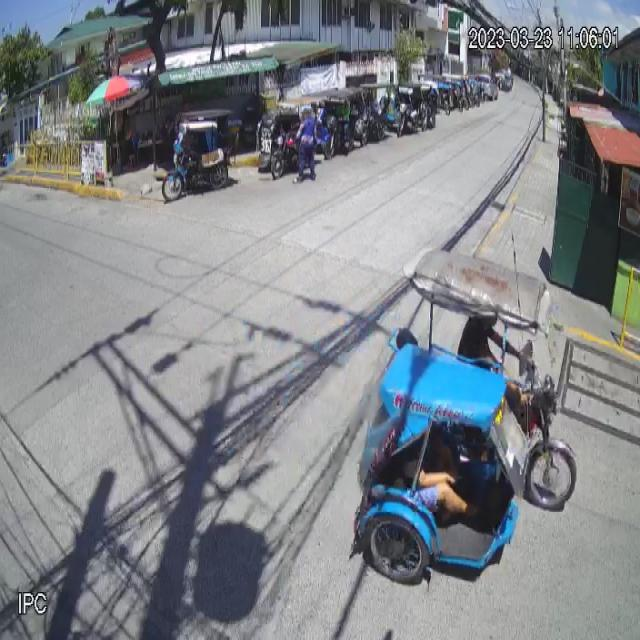Tricycle: (348, 245, 576, 584), (161, 105, 240, 202)
